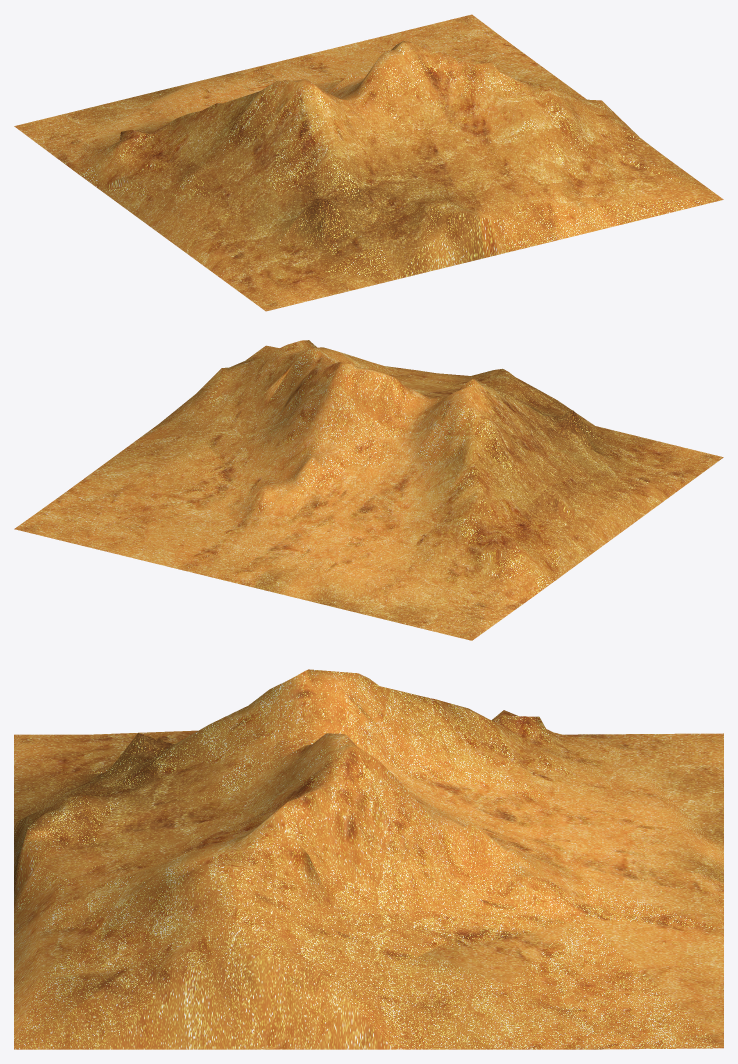
File: Desert_A.FBX
The picture shows the model from 3 angles, top to bottom: view 1: azimuth 30°, elevation 25°; view 2: azimuth 150°, elevation 25°; view 3: azimuth 270°, elevation 25°; orthographic projection. The views are drawn at different scales.
Parts seen in each view (by area): view 1: Desert_A; view 2: Desert_A; view 3: Desert_A.
Boxes of the visible parts, <box> form: Desert_A: <box>14,14,723,311</box>; Desert_A: <box>14,340,723,640</box>; Desert_A: <box>14,669,723,1049</box>.
Size of the model in its own units: 10495 by 2583 by 10000.
